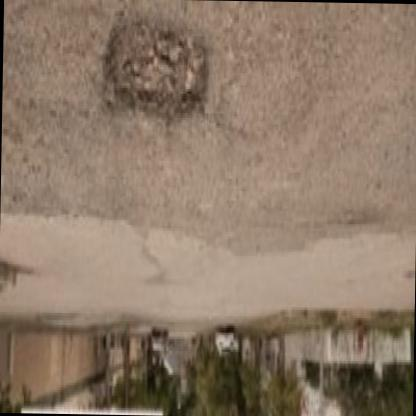pothole: (96, 10, 230, 138)
